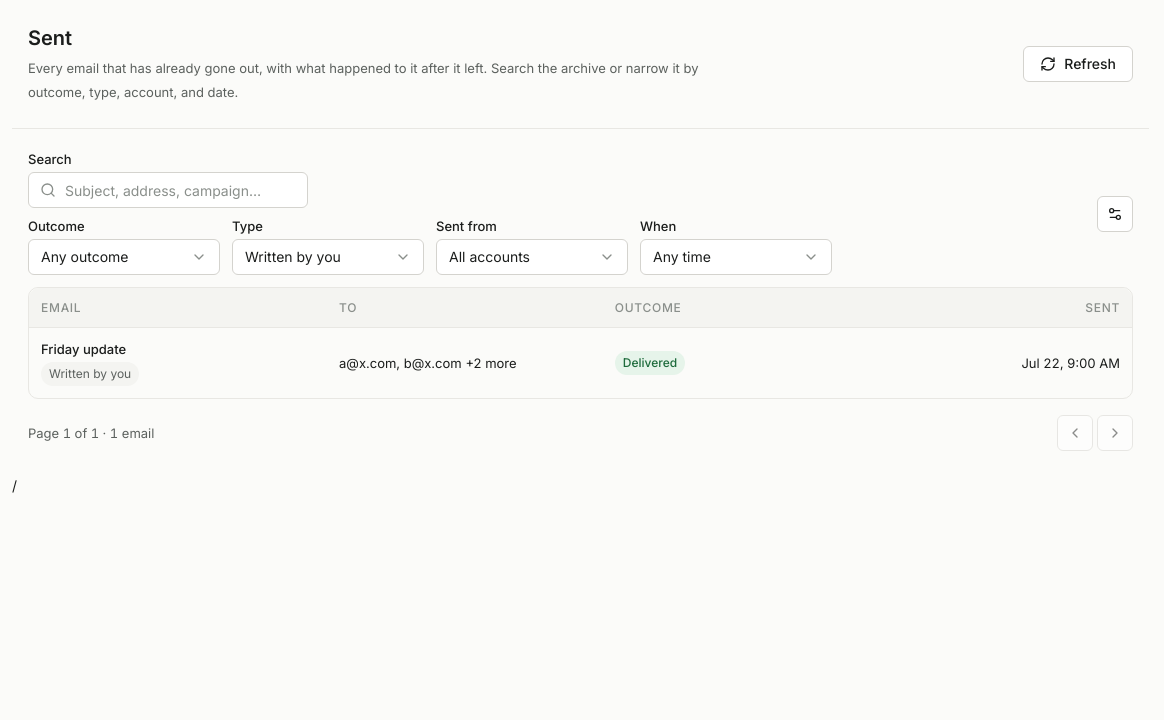
Test: Sent › keeps the filters in the URL, so coming back restores them
Check: the text "Friday update" is shown, box [41,341,126,357]
Click the dropdown labelled "outcome".
click(124, 257)  # box [28,239,220,275]
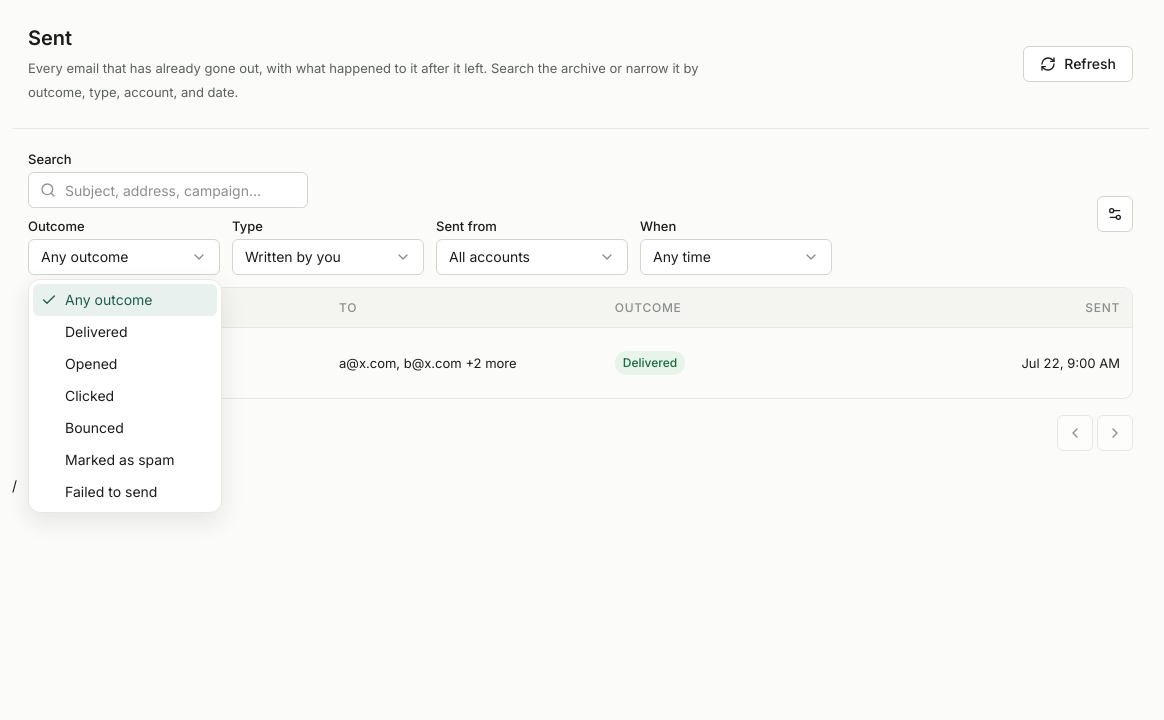
Click the option "Opened".
click(91, 364)  # box [65,355,118,372]
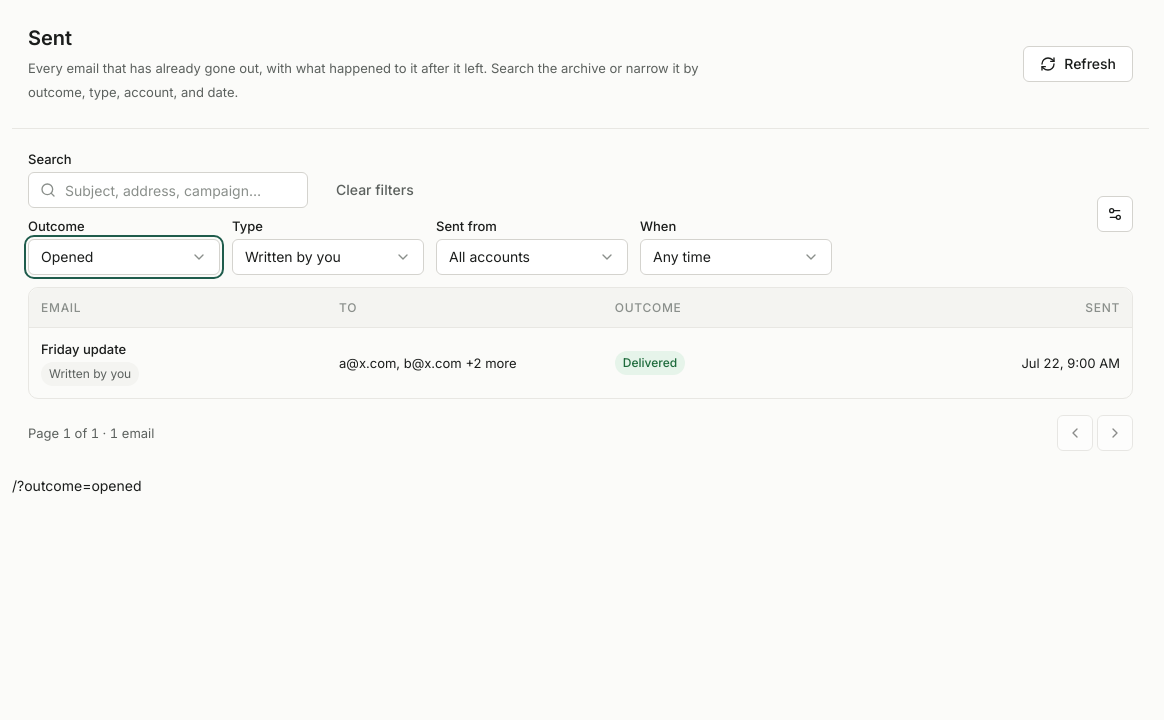
Check: the text with test id "url" shows "outcome=opened", box [12,477,142,494]
